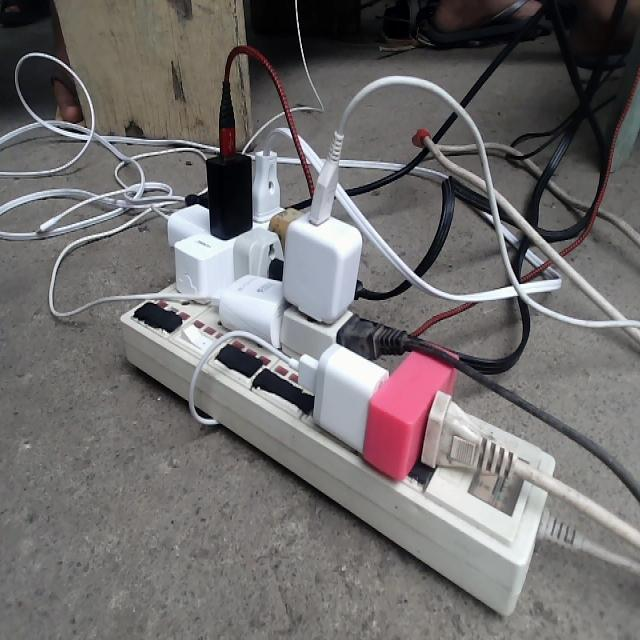-: (117, 94, 555, 614)
